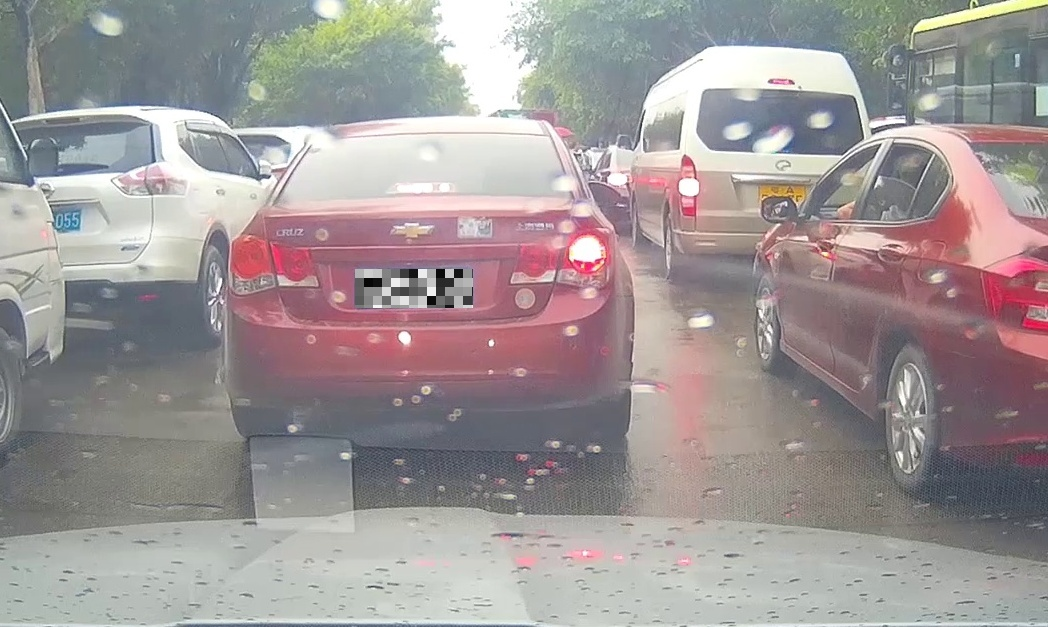L_light: (227, 234, 320, 296)
R_light: (508, 227, 615, 290)
T_light: (388, 182, 455, 194)
day-right: (224, 120, 633, 441)
plate_1: (355, 269, 473, 308)
